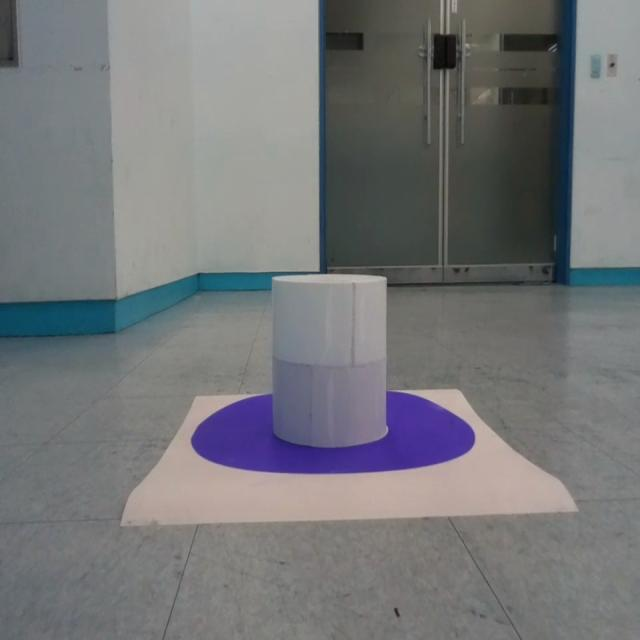cylinder: (271, 273, 388, 448)
